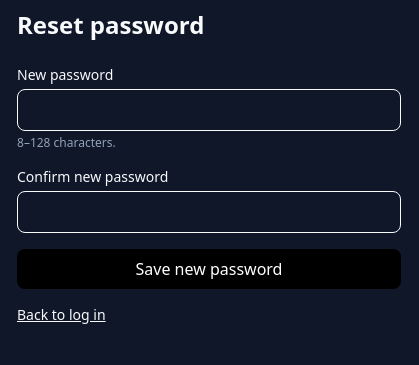
Test case: ResetPasswordPage › clears the field message once the user edits the password
The width and height of the screenshot is (419, 365).
Type "password1234" into the password field labelled "New password".
click(209, 110); type("password1234")  # box [17, 89, 401, 131]
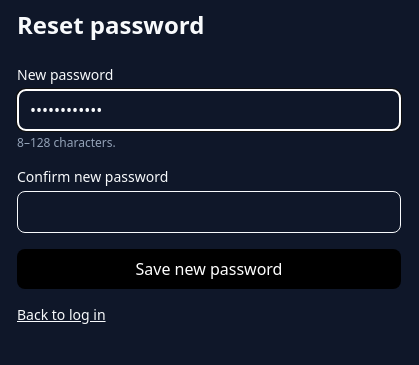
Type "password1234" into the password field labelled "Confirm new password".
click(209, 212); type("password1234")  # box [17, 191, 401, 233]
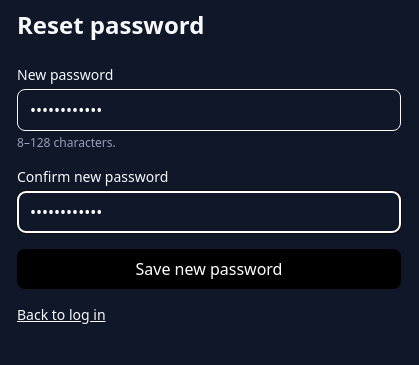
Click the button "Save new password".
click(209, 269)  # box [17, 249, 401, 289]
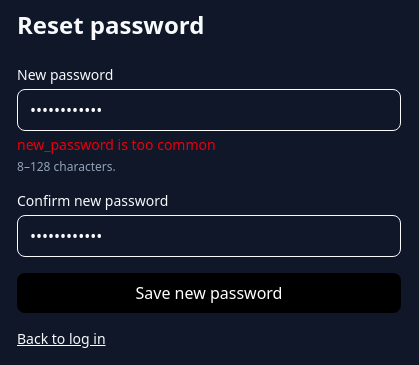
Expected: the text "new_password is too common" is shown, [17, 135, 216, 154]
Type "x" into the password field labelled "New password".
click(209, 110); type("x")  # box [17, 89, 401, 131]
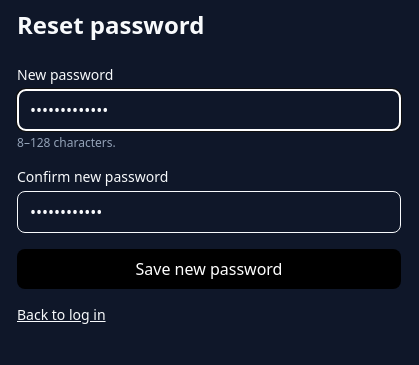
Expected: the text "new_password is too common" is gone
